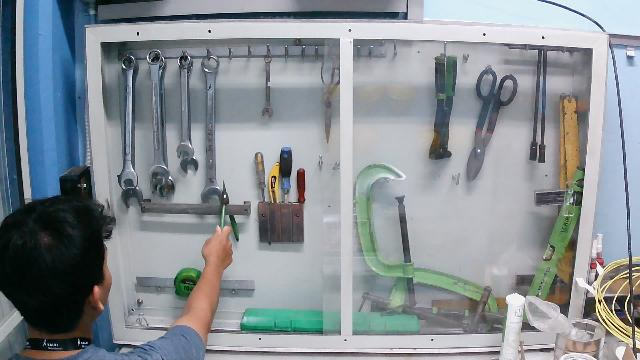tang_cucut_lancip_2: (214, 177, 245, 249)
